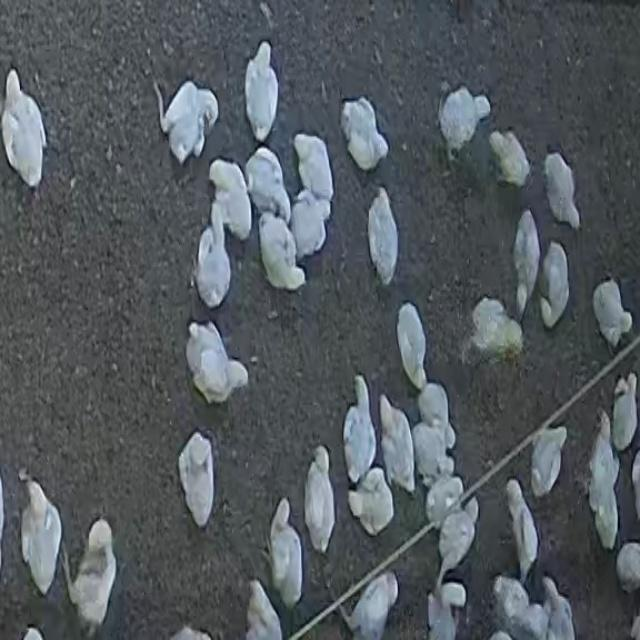chicken: (66, 520, 118, 634), (1, 70, 48, 188), (186, 319, 247, 404), (158, 79, 218, 163), (20, 478, 63, 594), (415, 384, 457, 494), (338, 572, 401, 639), (588, 417, 618, 545), (490, 572, 546, 640), (437, 496, 480, 584), (178, 432, 217, 528), (243, 41, 280, 142), (194, 211, 232, 309), (342, 376, 376, 485), (258, 212, 304, 291), (340, 98, 389, 172), (380, 394, 417, 492), (269, 501, 303, 607), (438, 87, 488, 159), (245, 148, 291, 225), (209, 158, 252, 240), (469, 299, 523, 359), (506, 482, 539, 580), (304, 448, 335, 552), (293, 132, 335, 205), (349, 468, 394, 536), (370, 188, 400, 286), (592, 277, 633, 348), (530, 424, 569, 498), (396, 301, 428, 391), (290, 191, 330, 262), (538, 241, 570, 328), (544, 152, 580, 228), (513, 212, 539, 313), (488, 129, 529, 186), (245, 581, 284, 640), (540, 579, 576, 640), (612, 375, 639, 455), (615, 541, 640, 590)
